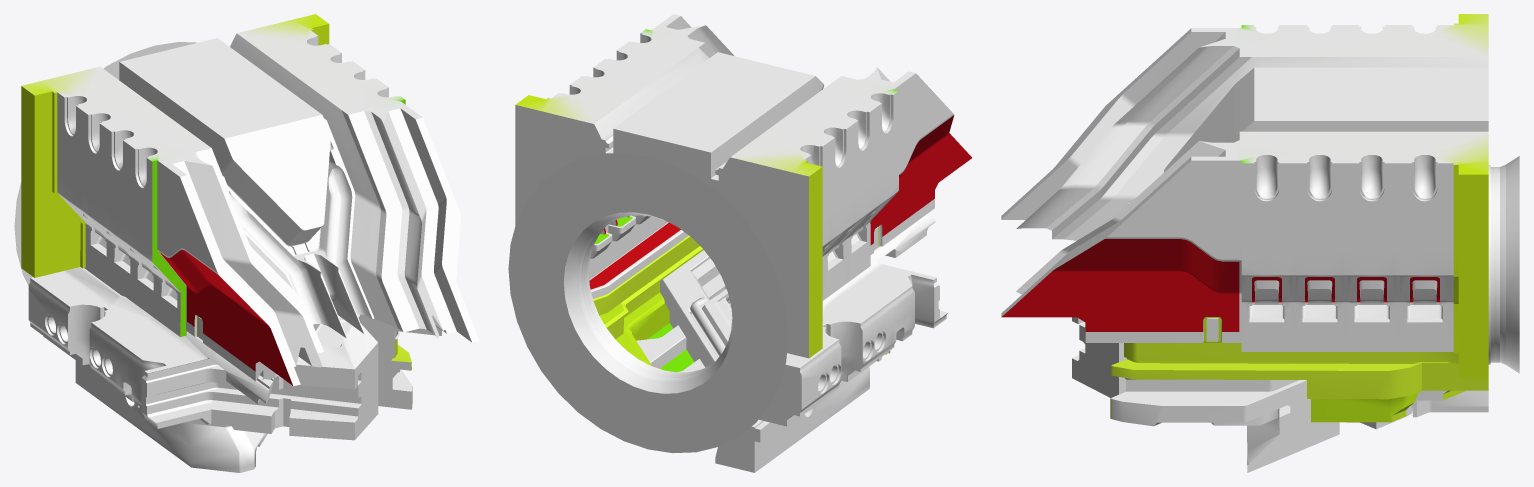
The model's file is part_main-lod0.dae.
3 renders of one model, left to right at view 1: azimuth 30°, elevation 25°; view 2: azimuth 150°, elevation 25°; view 3: azimuth 270°, elevation 25°, orthographic. The views are drawn at different scales.
Parts seen in each view (by area): view 1: part_main-lod0Xlod0Xp2genericXgen_p2_hullpattern_01, part_main-lod0Xlod0Xp2genericXgen_p2_hulltexture_02_c, part_main-lod0Xlod0Xp2genericXgen_p2_hulltextureaged_02_b, part_main-lod0Xlod0Xp2multimatXp2_multimat_01; view 2: part_main-lod0Xlod0Xp2genericXgen_p2_hullpattern_01, part_main-lod0Xlod0Xp2genericXgen_p2_hulltextureaged_02_b, part_main-lod0Xlod0Xp2genericXgen_p2_hulltexture_02_c, part_main-lod0Xlod0Xp2multimatXp2_multimat_01; view 3: part_main-lod0Xlod0Xp2genericXgen_p2_hulltexture_02_c, part_main-lod0Xlod0Xp2genericXgen_p2_hullpattern_01, part_main-lod0Xlod0Xp2genericXgen_p2_hulltextureaged_02_b, part_main-lod0Xlod0Xp2multimatXp2_multimat_01.
Part boxes in pixels (<box>): part_main-lod0Xlod0Xp2genericXgen_p2_hullpattern_01: <box>14,14,479,440</box>; part_main-lod0Xlod0Xp2genericXgen_p2_hulltexture_02_c: <box>59,38,426,381</box>; part_main-lod0Xlod0Xp2genericXgen_p2_hulltextureaged_02_b: <box>21,29,446,472</box>; part_main-lod0Xlod0Xp2multimatXp2_multimat_01: <box>34,24,405,408</box>; part_main-lod0Xlod0Xp2genericXgen_p2_hullpattern_01: <box>508,14,947,472</box>; part_main-lod0Xlod0Xp2genericXgen_p2_hulltextureaged_02_b: <box>569,33,971,472</box>; part_main-lod0Xlod0Xp2genericXgen_p2_hulltexture_02_c: <box>588,37,970,300</box>; part_main-lod0Xlod0Xp2multimatXp2_multimat_01: <box>593,132,968,372</box>; part_main-lod0Xlod0Xp2genericXgen_p2_hulltexture_02_c: <box>1005,46,1488,351</box>; part_main-lod0Xlod0Xp2genericXgen_p2_hullpattern_01: <box>1001,14,1519,429</box>; part_main-lod0Xlod0Xp2genericXgen_p2_hulltextureaged_02_b: <box>1002,155,1488,472</box>; part_main-lod0Xlod0Xp2multimatXp2_multimat_01: <box>1009,269,1458,363</box>.
Size of the model in its own units: 30.57 by 30.53 by 41.32.
